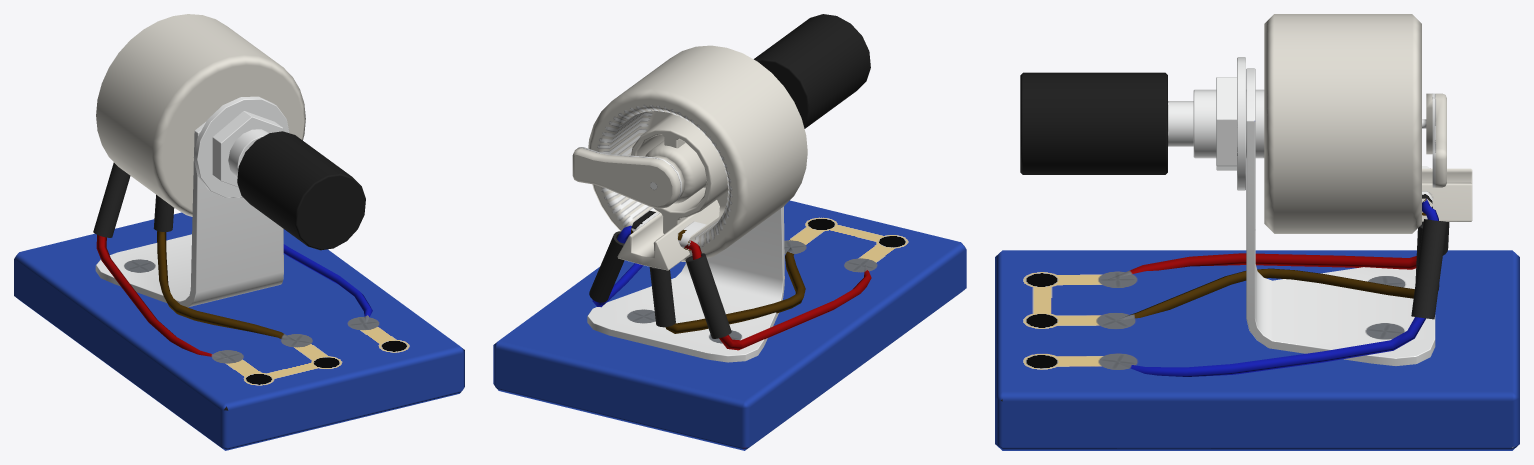
File: Reostat.fbx
3 renders of one model, left to right at view 1: azimuth 30°, elevation 25°; view 2: azimuth 150°, elevation 25°; view 3: azimuth 270°, elevation 25°, orthographic. The views are drawn at different scales.
Parts seen in each view (by area): view 1: Reostat, Knob; view 2: Reostat, Knob; view 3: Reostat, Knob.
Part boxes in pixels (x1,y1,x2,y2): Reostat: [14, 14, 464, 450]; Knob: [237, 131, 365, 250]; Reostat: [493, 45, 966, 450]; Knob: [572, 14, 870, 208]; Reostat: [995, 14, 1519, 450]; Knob: [1020, 72, 1446, 187].
Size of the model in its own units: 4 by 4.46 by 6.
